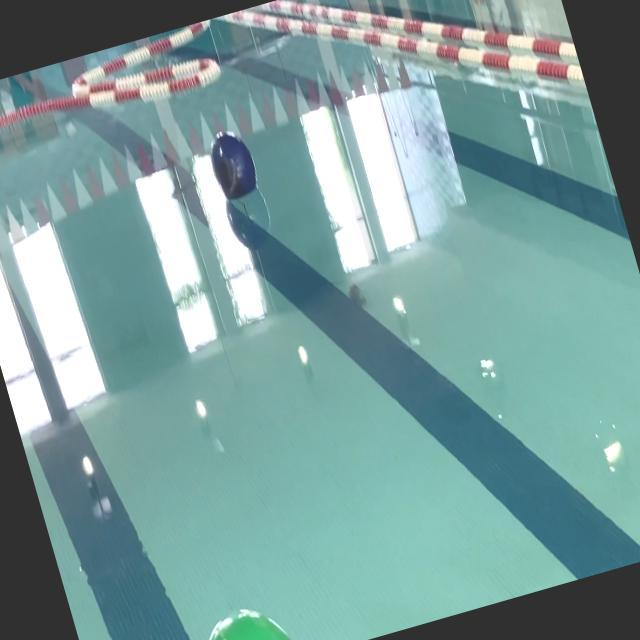buoy: (179, 595, 302, 640), (202, 125, 262, 202)
